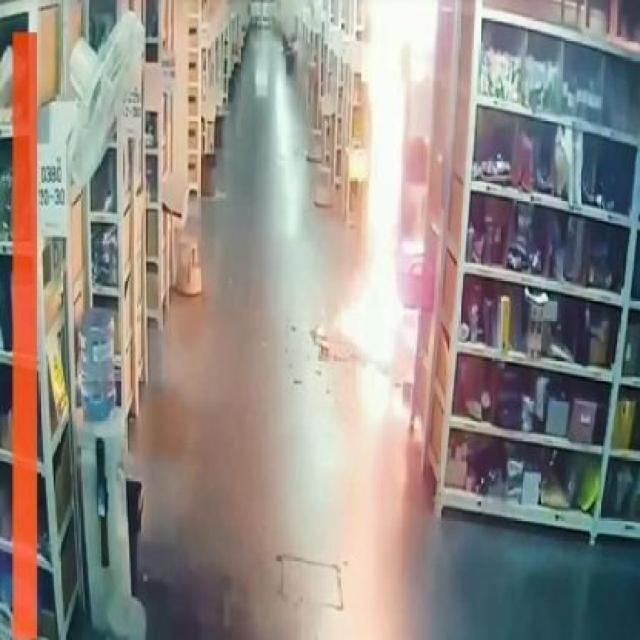smoke: (326, 19, 446, 366)
